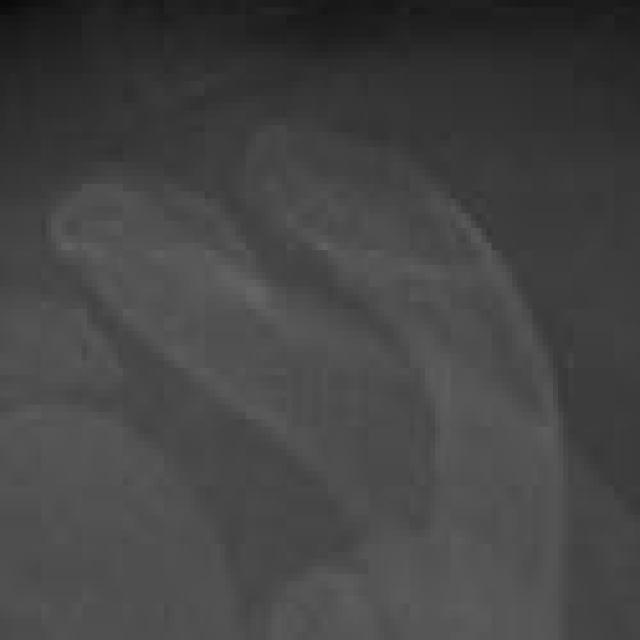fracture: (6, 3, 640, 640)
